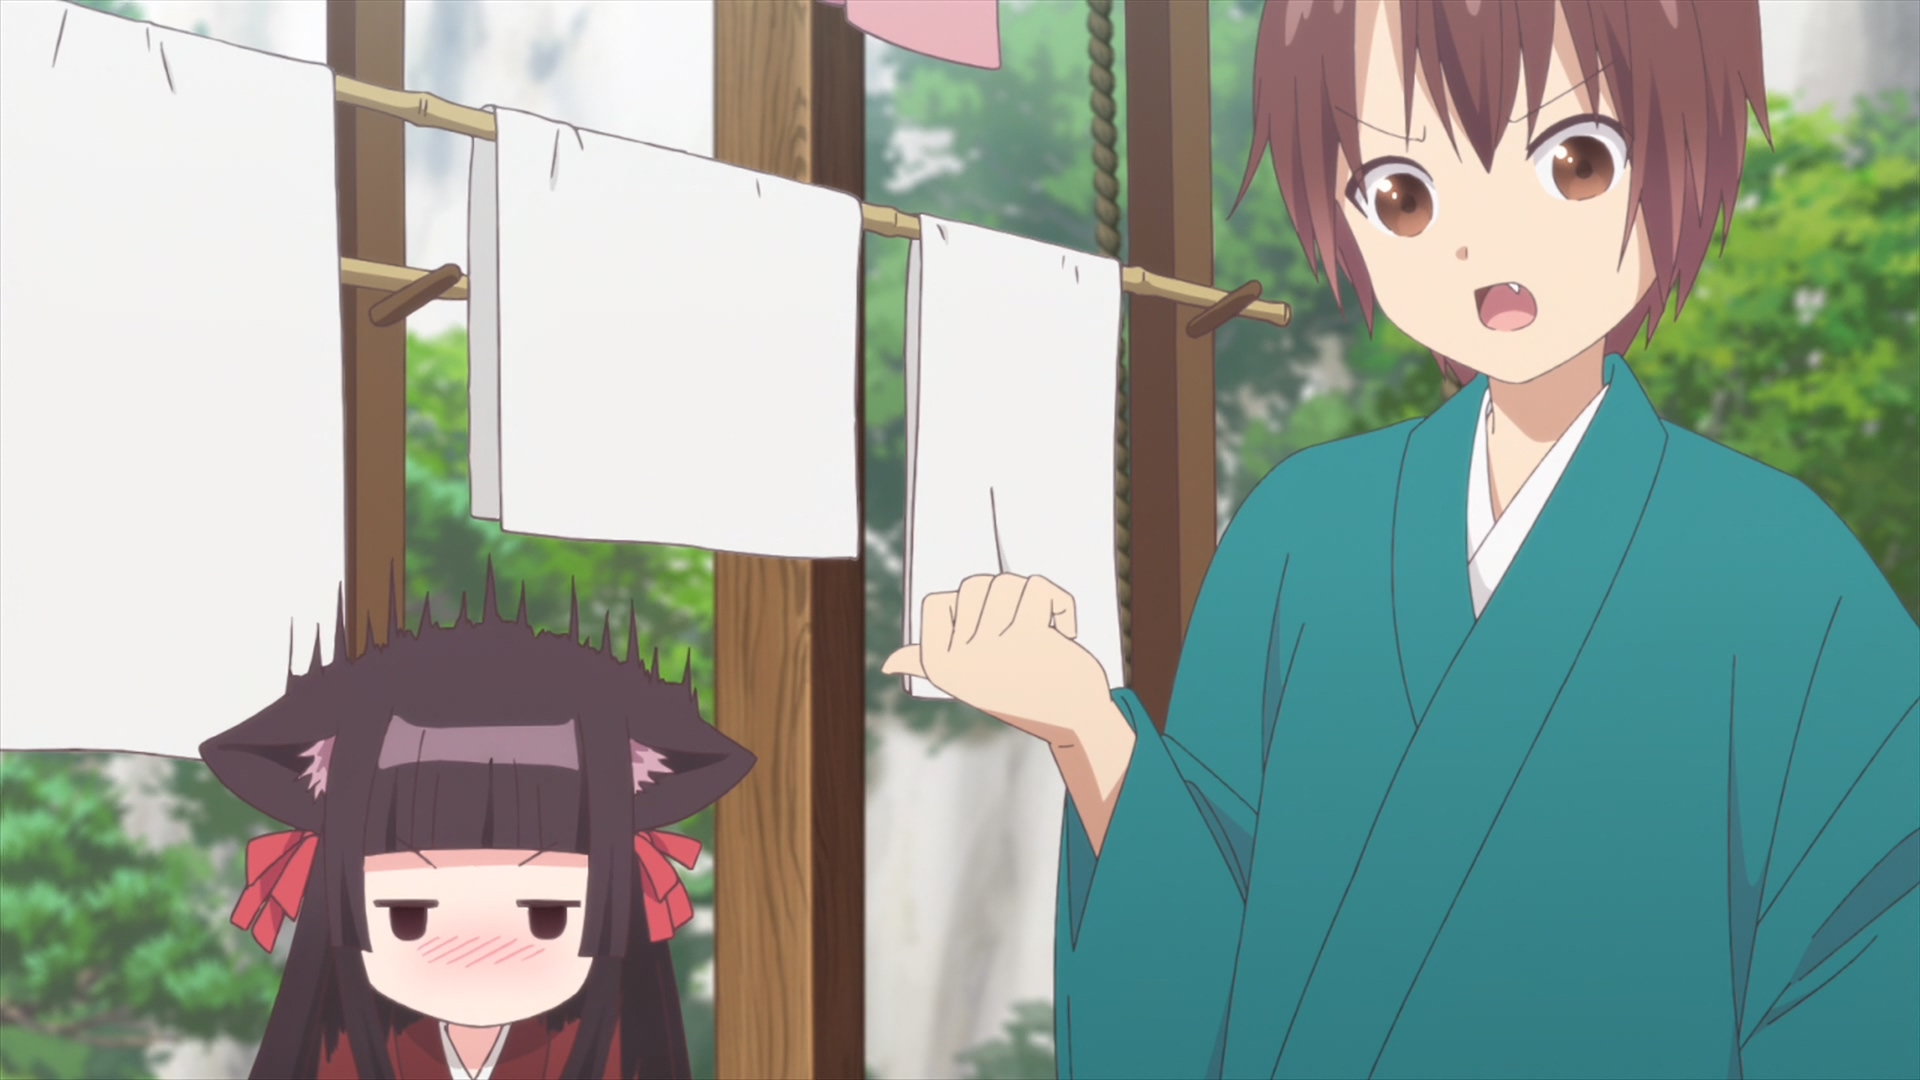枣: (882, 1, 1920, 1080)
樱: (198, 554, 758, 1080)
